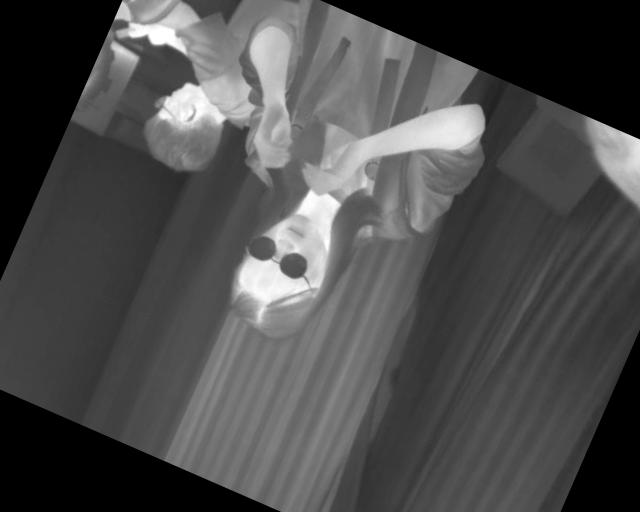face: (214, 198, 348, 350)
